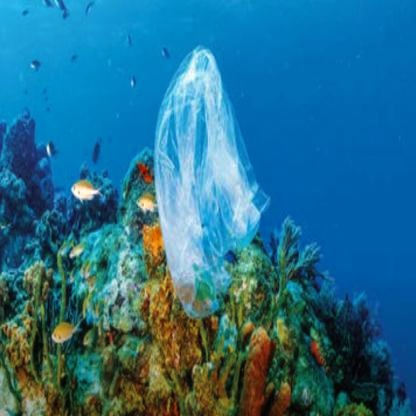plastic: (155, 45, 270, 312)
